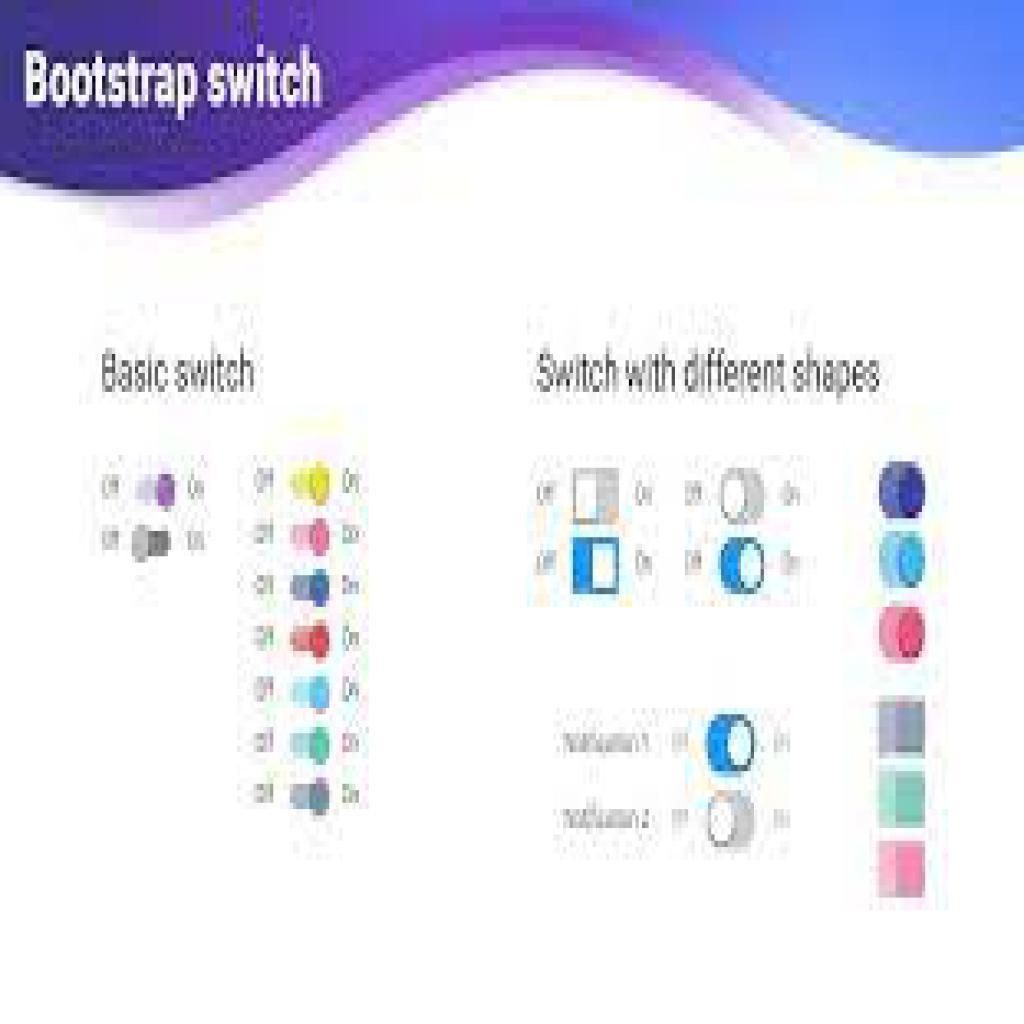switch: (875, 602, 927, 665), (706, 716, 758, 778), (879, 462, 927, 521), (708, 791, 756, 849), (880, 531, 927, 590), (718, 538, 765, 595), (720, 468, 766, 526), (574, 537, 620, 595), (574, 468, 620, 525), (290, 460, 331, 509), (290, 619, 332, 665), (133, 474, 178, 513), (288, 570, 333, 609), (286, 728, 331, 767), (290, 519, 332, 560), (290, 674, 331, 716), (132, 523, 172, 566), (287, 779, 331, 818)
